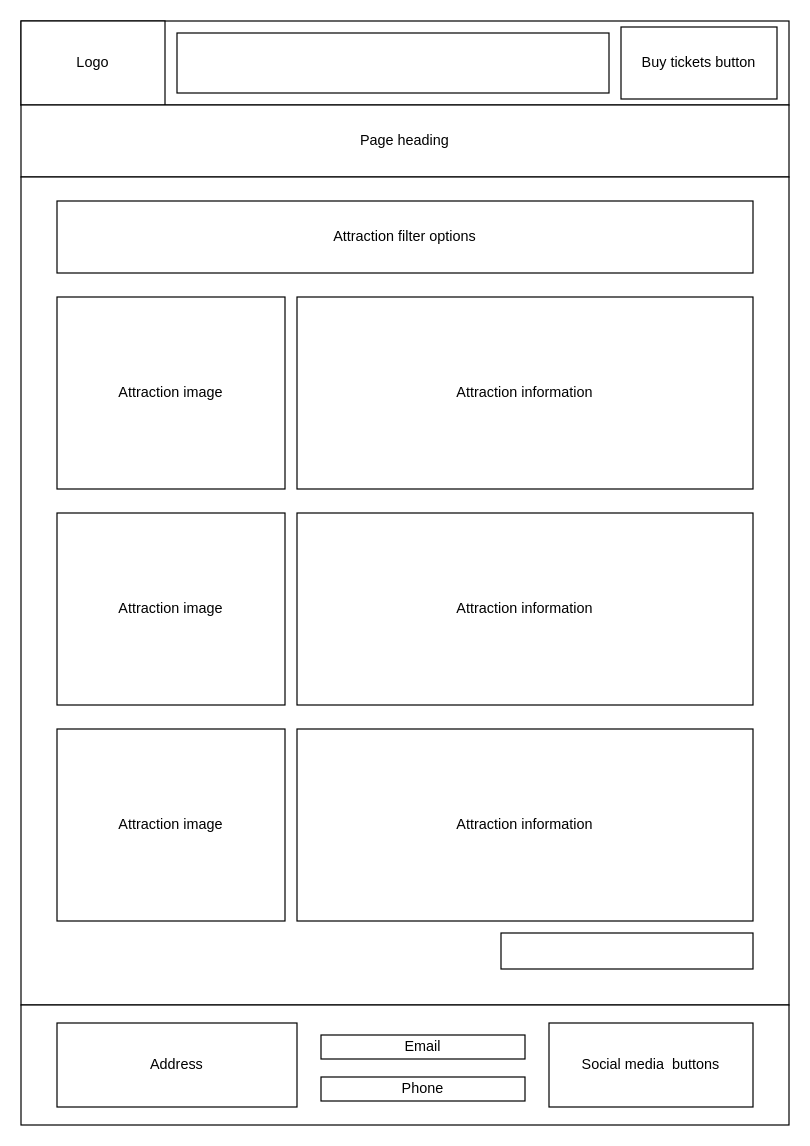
This 810x1146 diagram has some shape labels left out. Each missing label, with the centre of its shape:
Navigation: the point at 392,62
Page of results navigation: the point at 626,950
